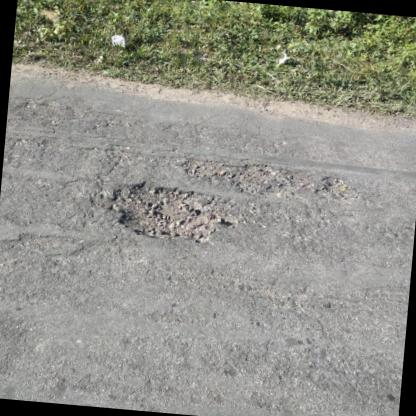pothole: (100, 177, 230, 247), (178, 155, 307, 199), (310, 173, 364, 205)
